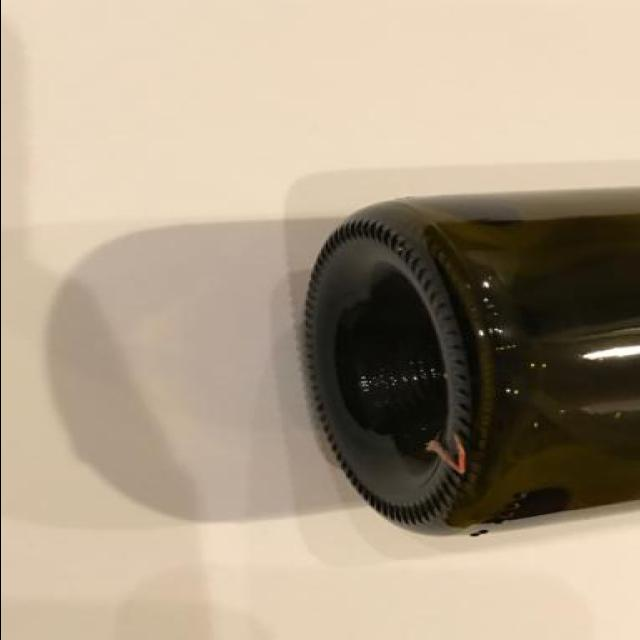glass: (294, 181, 640, 540)
